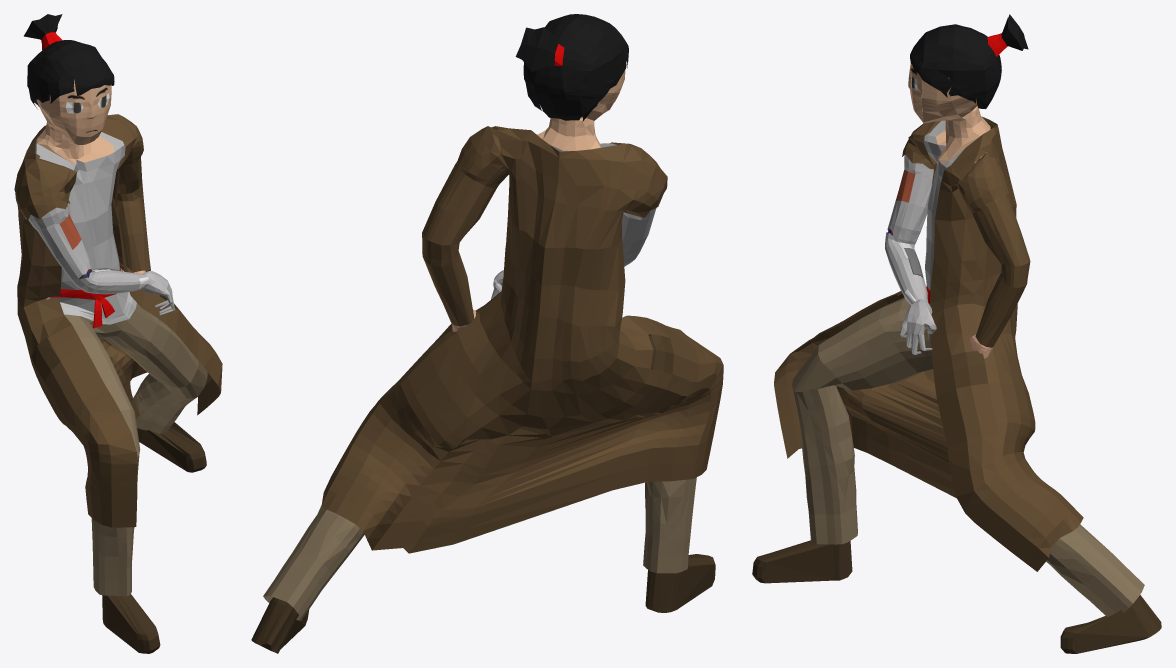
The model's file is One_RL_000009.obj.
3 views of the same model, side by side, from view 1: azimuth 30°, elevation 25°; view 2: azimuth 150°, elevation 25°; view 3: azimuth 270°, elevation 25° (orthographic). The views are drawn at different scales.
Visible parts, largest first — view 1: Hair_Cube.004; view 2: Hair_Cube.004; view 3: Hair_Cube.004.
Part boxes in pixels (bbox=[...]): Hair_Cube.004: bbox=[14, 14, 222, 653]; Hair_Cube.004: bbox=[251, 14, 723, 653]; Hair_Cube.004: bbox=[752, 14, 1161, 653].
Size of the model in its own units: 1.66 by 3.49 by 2.27.
